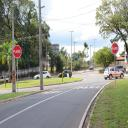Pare: (13, 45, 22, 58), (111, 42, 119, 55)
